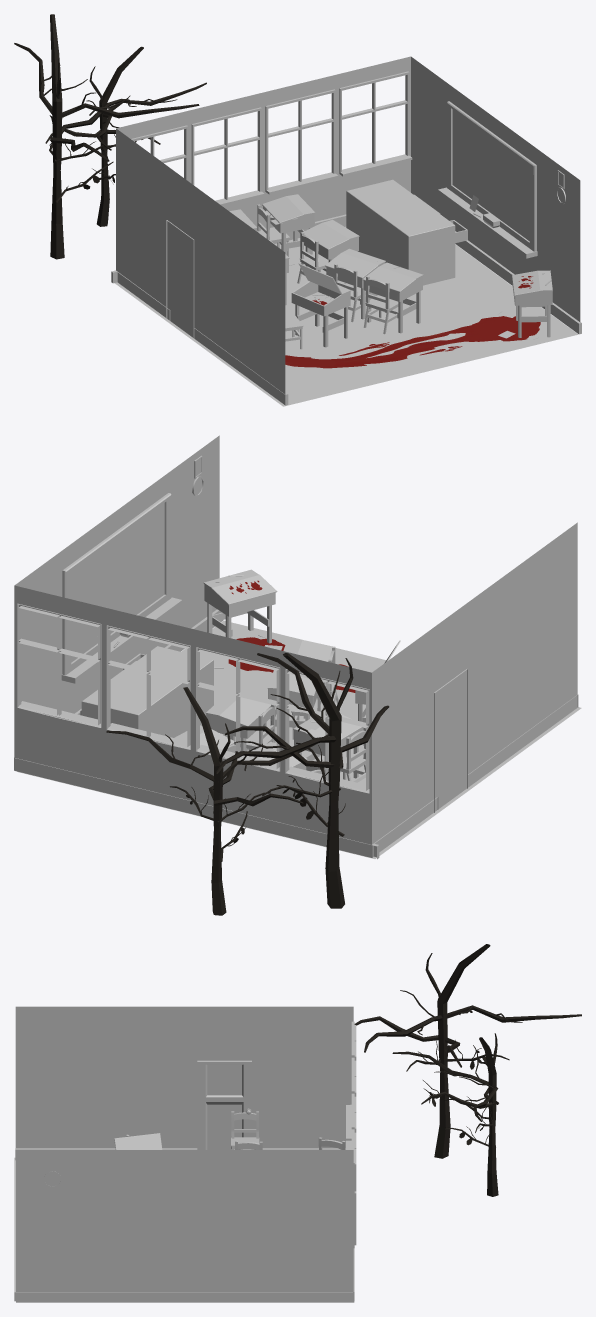
File: SKETCHFAB_SCENE.fbx
The picture shows the model from 3 angles, top to bottom: view 1: azimuth 30°, elevation 25°; view 2: azimuth 150°, elevation 25°; view 3: azimuth 270°, elevation 25°; orthographic projection. The views are drawn at different scales.
Visible parts, largest first — view 1: WALL, FLOOR, Board, OBJ_T_DESK, desk_base (×6), OBJ_Tree1, OBJ_BLOOD_TRAIL, desk_Lid (×5), OBJ_Tree2, WINDOW2, WINDOW3, WINDOW (+6 smaller); view 2: WALL, Board, OBJ_Tree1, OBJ_T_DESK, FLOOR, desk_base (×4), OBJ_Tree2, WINDOW3, WINDOW2, WINDOW, WINDOW1, desk_Lid (×2) (+2 smaller); view 3: WALL, OBJ_Tree1, OBJ_door, OBJ_Tree2, desk_Lid, OBJ_Chair7, WINDOW3.
Part boxes in pixels (x1=…): WALL: x1=116, y1=56, x2=580, y2=404; FLOOR: x1=114, y1=226, x2=578, y2=406; Board: x1=438, y1=101, x2=537, y2=258; OBJ_T_DESK: x1=346, y1=179, x2=467, y2=285; desk_base (×6): x1=263, y1=194, x2=552, y2=347; OBJ_Tree1: x1=14, y1=14, x2=199, y2=259; OBJ_BLOOD_TRAIL: x1=285, y1=316, x2=540, y2=368; desk_Lid (×5): x1=262, y1=196, x2=415, y2=294; OBJ_Tree2: x1=45, y1=46, x2=206, y2=226; WINDOW2: x1=265, y1=89, x2=338, y2=194; WINDOW3: x1=339, y1=71, x2=412, y2=176; WINDOW: x1=191, y1=107, x2=264, y2=206; WALL: x1=14, y1=435, x2=577, y2=857; Board: x1=61, y1=493, x2=182, y2=683; OBJ_Tree1: x1=216, y1=653, x2=389, y2=908; OBJ_T_DESK: x1=80, y1=646, x2=213, y2=737; FLOOR: x1=17, y1=620, x2=581, y2=858; desk_base (×4): x1=203, y1=569, x2=362, y2=778; OBJ_Tree2: x1=106, y1=687, x2=329, y2=915; WINDOW3: x1=17, y1=603, x2=101, y2=727; WINDOW2: x1=106, y1=625, x2=190, y2=749; WINDOW: x1=196, y1=647, x2=280, y2=771; WINDOW1: x1=285, y1=669, x2=369, y2=793; desk_Lid (×2): x1=211, y1=575, x2=277, y2=726; WALL: x1=15, y1=1006, x2=353, y2=1302; OBJ_Tree1: x1=354, y1=944, x2=581, y2=1158; OBJ_door: x1=197, y1=1060, x2=251, y2=1149; OBJ_Tree2: x1=392, y1=1033, x2=498, y2=1196; desk_Lid: x1=114, y1=1133, x2=162, y2=1149; OBJ_Chair7: x1=231, y1=1111, x2=259, y2=1149; WINDOW3: x1=351, y1=1129, x2=356, y2=1248.
Size of the model in its own units: 862 by 584 by 1341.
